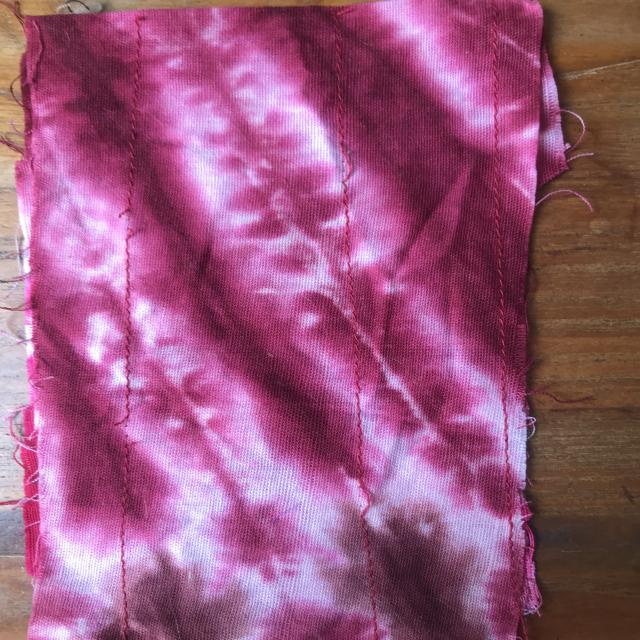broken: (100, 188, 153, 256), (108, 408, 168, 465)
skip: (320, 134, 372, 196), (339, 468, 384, 530)
